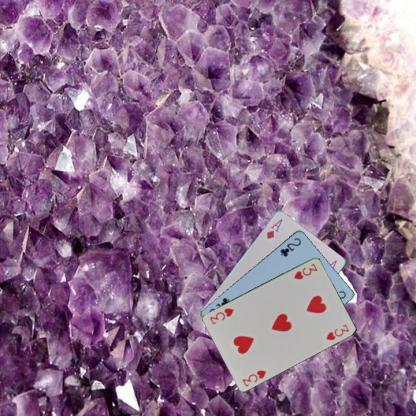2c: (278, 235, 302, 258)
3h: (240, 367, 267, 388), (291, 261, 319, 280)
Ad: (264, 216, 284, 241)
